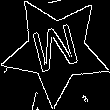M_S: (28, 20, 84, 81)
